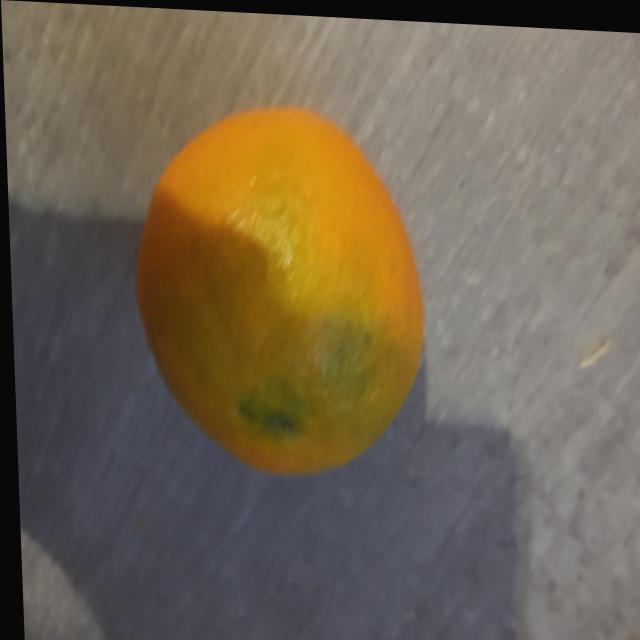Orange: (129, 102, 420, 474)
